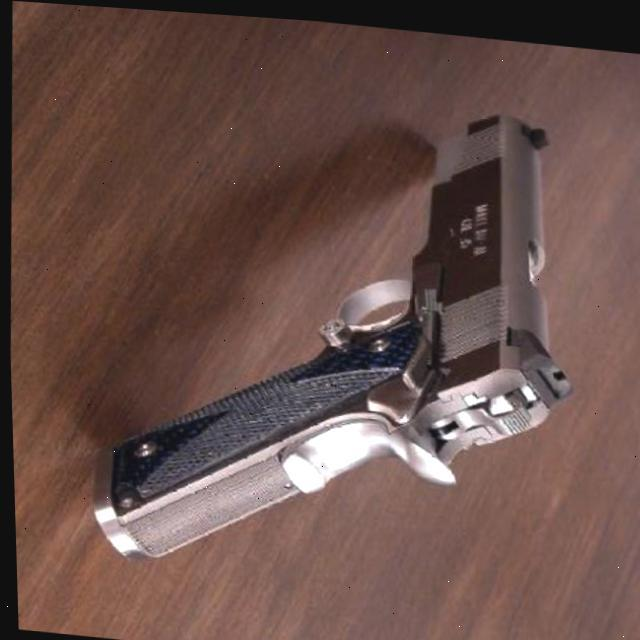gun: (67, 66, 588, 596)
